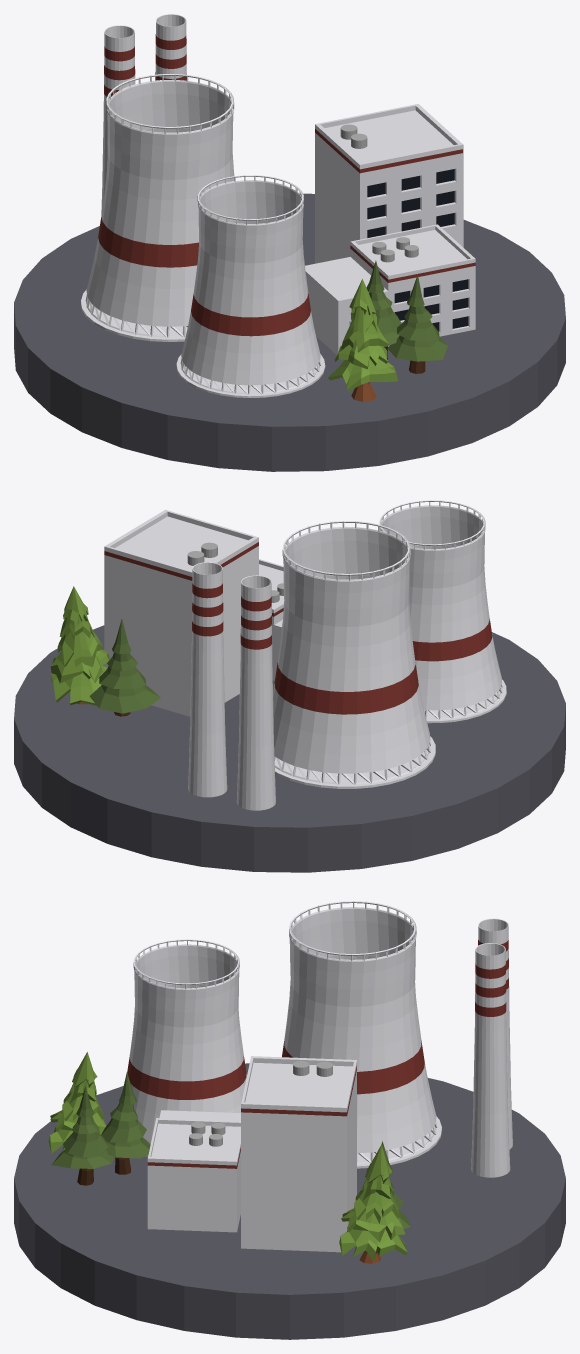
The model's file is thermal_venti.glb.
3 renders of one model, top to bottom at view 1: azimuth 30°, elevation 25°; view 2: azimuth 150°, elevation 25°; view 3: azimuth 270°, elevation 25°, orthographic.
Visible parts, largest first — view 1: Cylinder.001, Cube.026, Cube.024, Cube.025, Cube.028, Cylinder.021, Tree.004, Tree.002, Tree.008; view 2: Cylinder.001, Cube.026, Cube.025, Cube.024, Cylinder.021, Tree.010, Tree.014, Cube.028; view 3: Cylinder.001, Cube.026, Cube.025, Cube.024, Cube.028, Cylinder.021, Tree.010, Tree.002, Tree.008, Tree.004.
Part boxes in pixels (left/top/right/bottom): Cylinder.001: left=14, top=193, right=565, bottom=471; Cube.026: left=81, top=74, right=234, bottom=341; Cube.024: left=176, top=175, right=325, bottom=397; Cube.025: left=315, top=104, right=463, bottom=263; Cube.028: left=305, top=224, right=475, bottom=354; Cylinder.021: left=101, top=14, right=186, bottom=214; Tree.004: left=328, top=279, right=397, bottom=401; Tree.002: left=387, top=274, right=447, bottom=373; Tree.008: left=366, top=260, right=401, bottom=359; Cylinder.001: left=14, top=625, right=565, bottom=872; Cube.026: left=273, top=521, right=435, bottom=788; Cube.025: left=104, top=509, right=258, bottom=716; Cube.024: left=379, top=500, right=506, bottom=723; Cylinder.021: left=188, top=562, right=275, bottom=810; Tree.010: left=50, top=586, right=109, bottom=705; Tree.014: left=89, top=619, right=160, bottom=716; Cube.028: left=259, top=559, right=284, bottom=680; Cylinder.001: left=14, top=1063, right=565, bottom=1339; Cube.026: left=282, top=901, right=441, bottom=1168; Cube.025: left=241, top=1056, right=356, bottom=1252; Cube.024: left=127, top=939, right=246, bottom=1157; Cube.028: left=147, top=1110, right=240, bottom=1232; Cylinder.021: left=471, top=918, right=512, bottom=1177; Tree.010: left=339, top=1144, right=407, bottom=1263; Tree.002: left=52, top=1086, right=113, bottom=1185; Tree.008: left=101, top=1072, right=150, bottom=1174; Tree.004: left=48, top=1052, right=105, bottom=1153.
Size of the model in its own units: 4.6 by 2.44 by 4.6.
